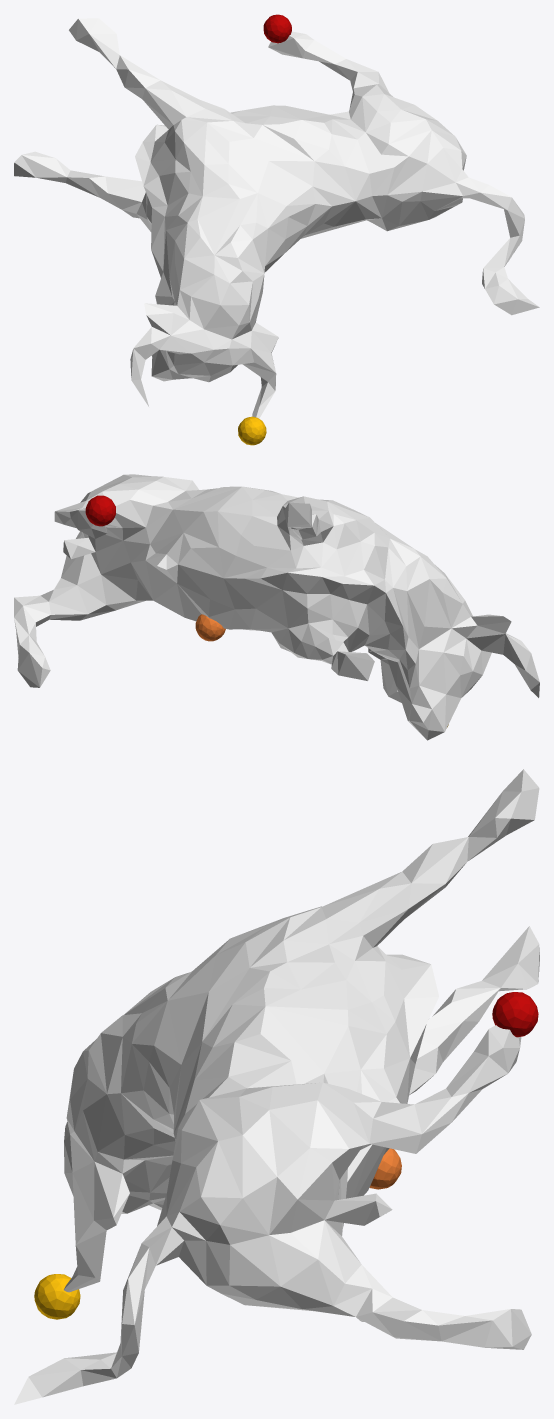
The model's file is source.obj.
3 views of the same model, one above another, from view 1: azimuth 30°, elevation 25°; view 2: azimuth 150°, elevation 25°; view 3: azimuth 270°, elevation 25° (orthographic). The views are drawn at different scales.
Size of the model in its own units: 1.64 by 1.26 by 1.14.
1 material, 1 textured.
